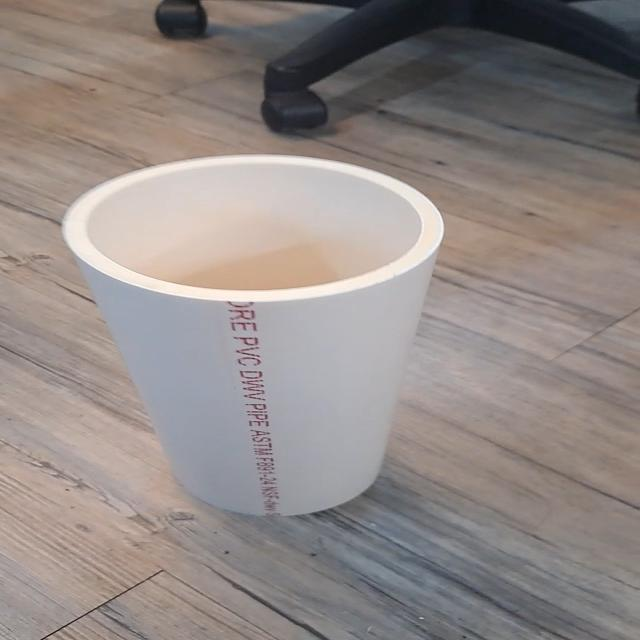CORAL: (57, 154, 464, 517)
